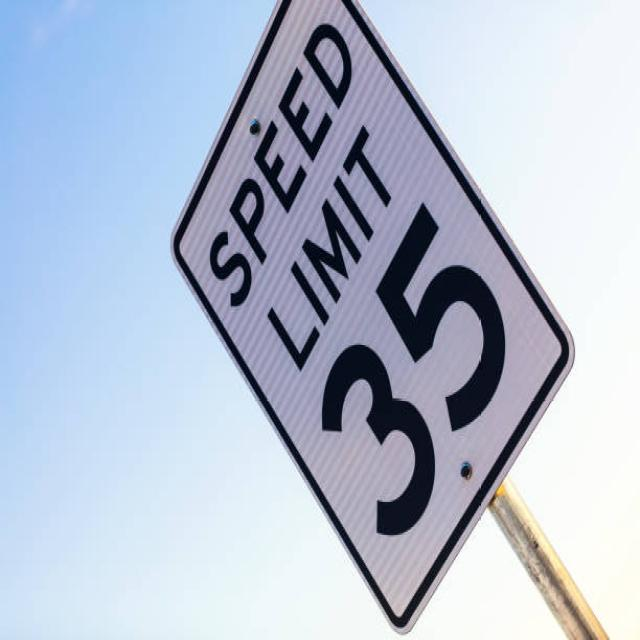speedLimit35: (167, 0, 585, 638)
